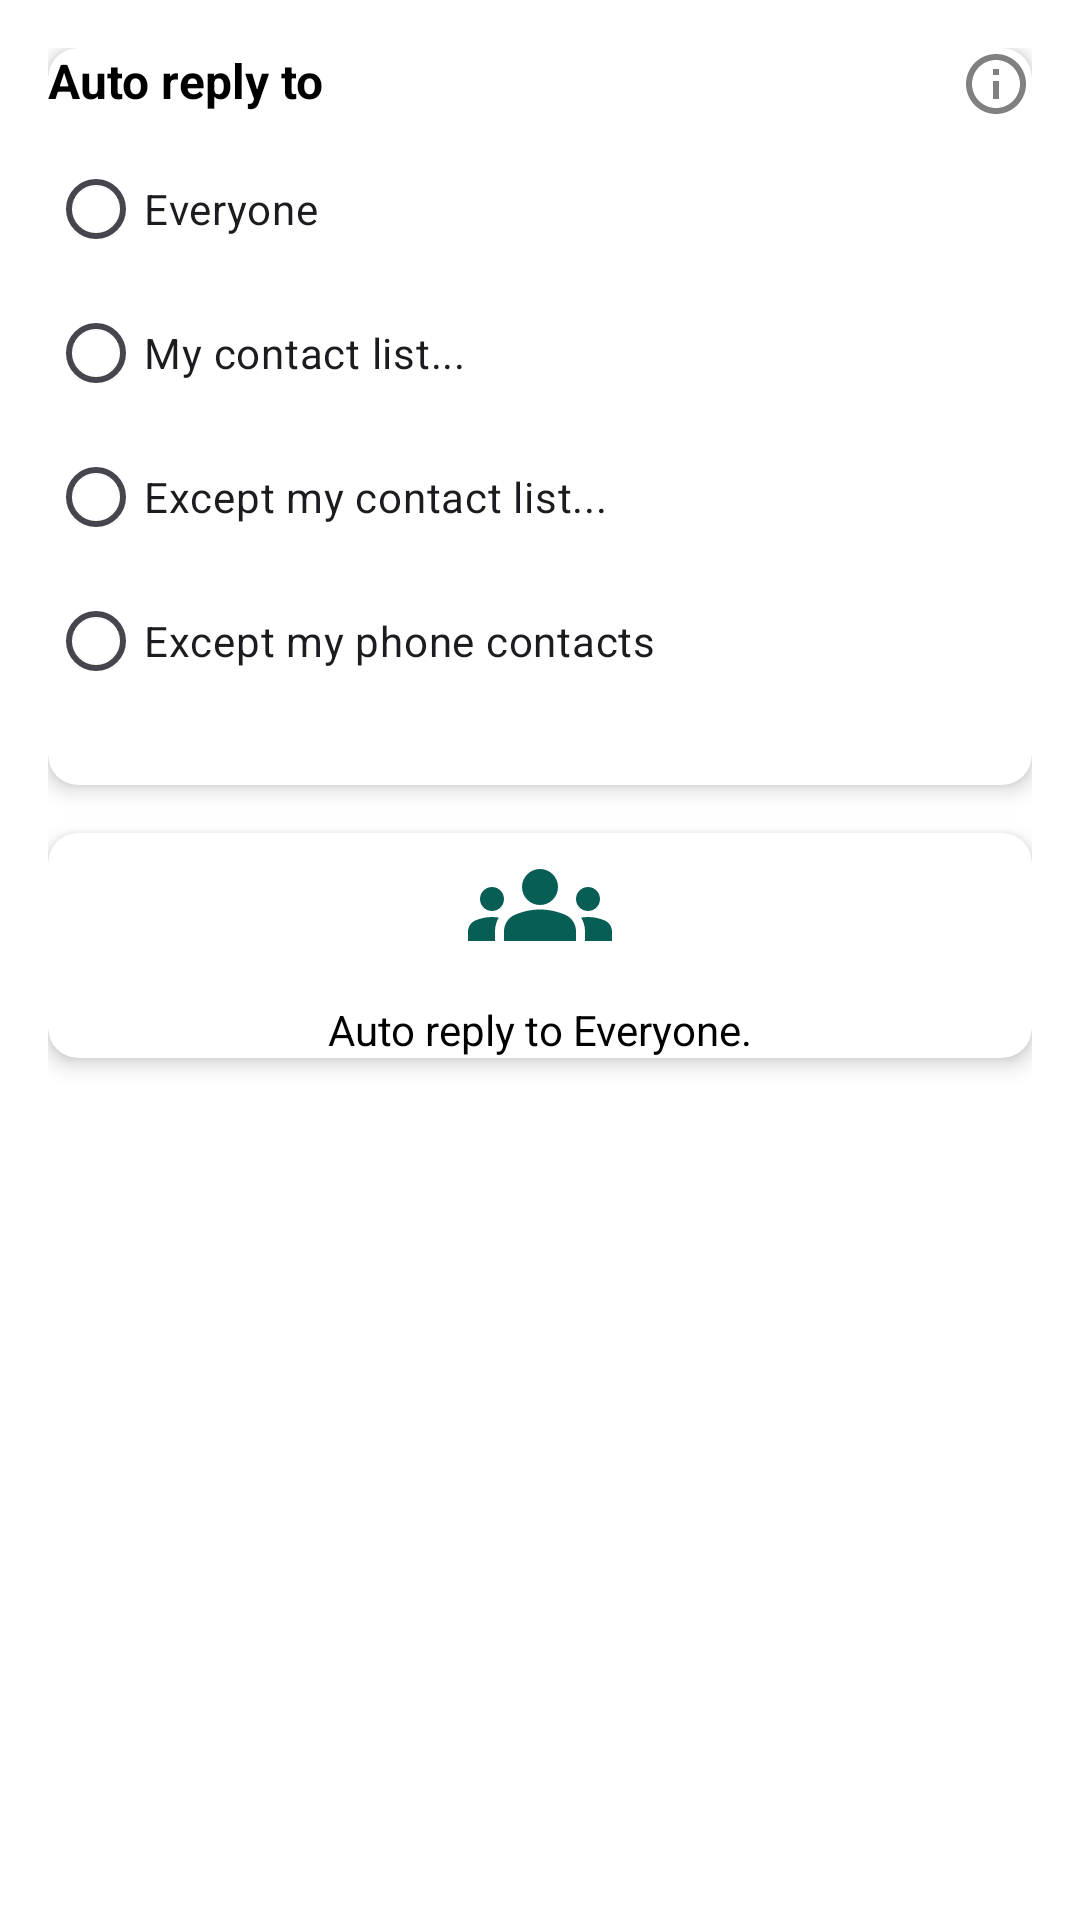

Screen size 1080 x 1920. Icon name, then its box in pixels as (x1, y1, x2, y2):
groups: (468, 869, 612, 941)
info: (966, 49, 1032, 114)
